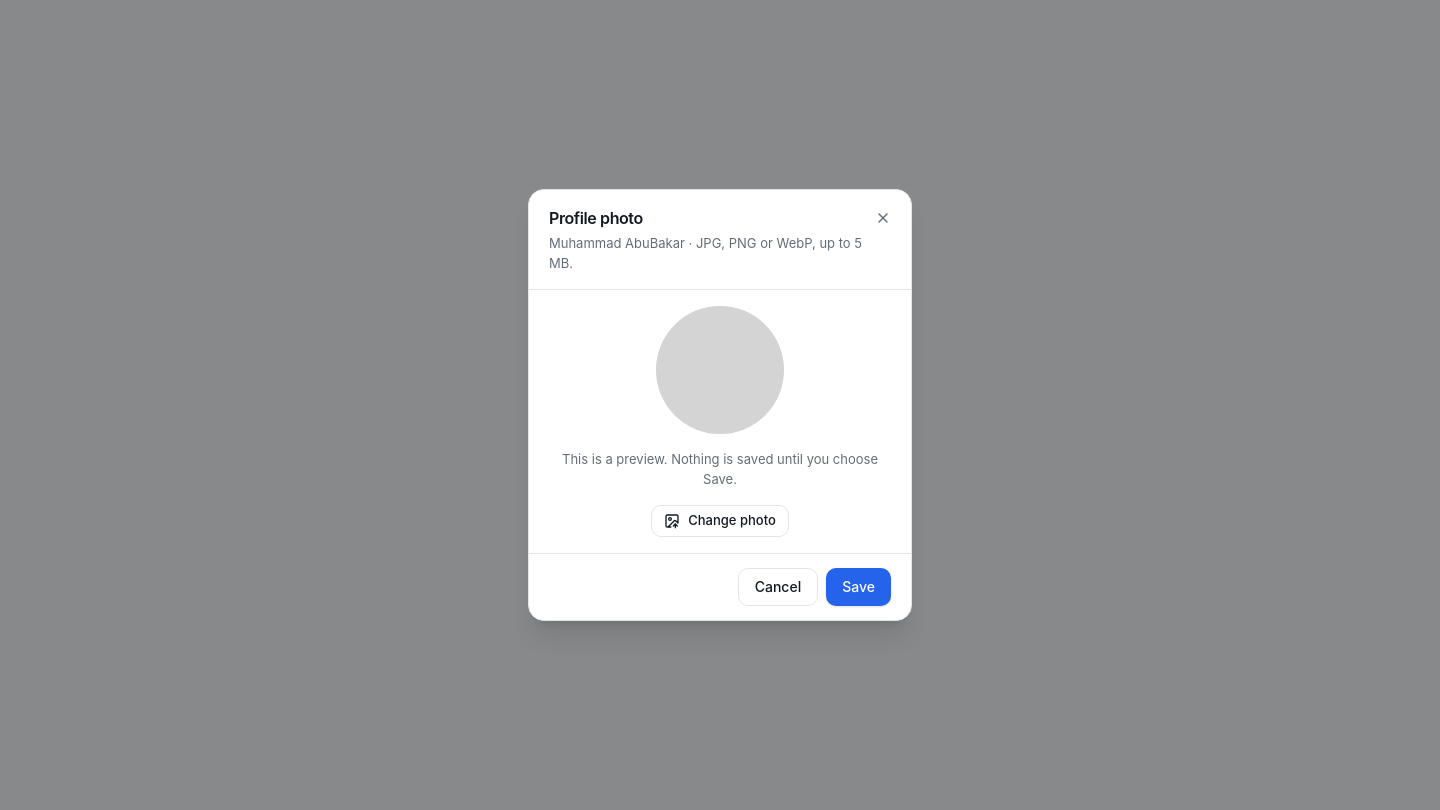
Test: uploading › reports what the server refused, and stays open
Earlier steps of the test are not shown.
Click the button "Save": (859, 587) [826,568,891,606]
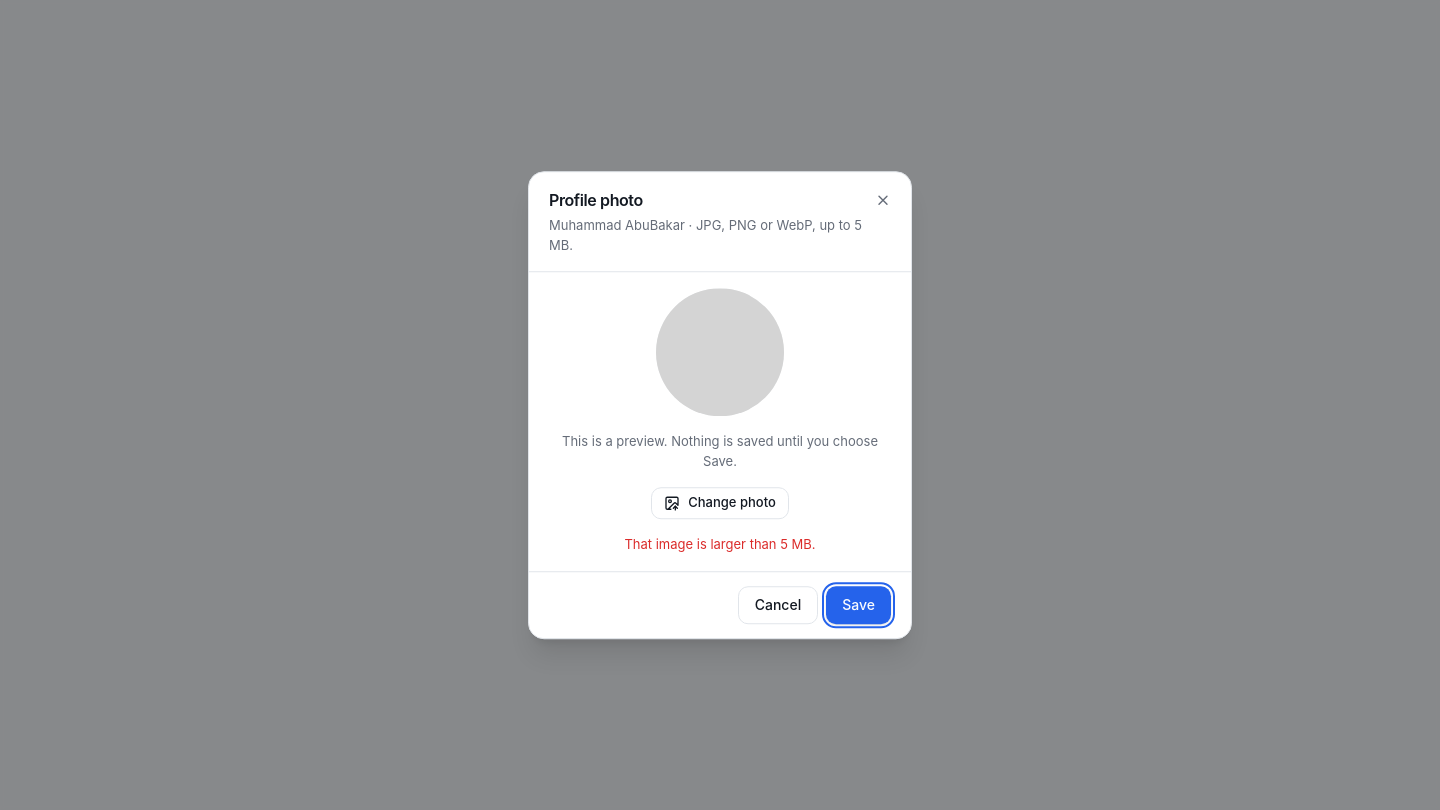
Expected: the message shows "larger than 5 MB", [624,536,816,552]
